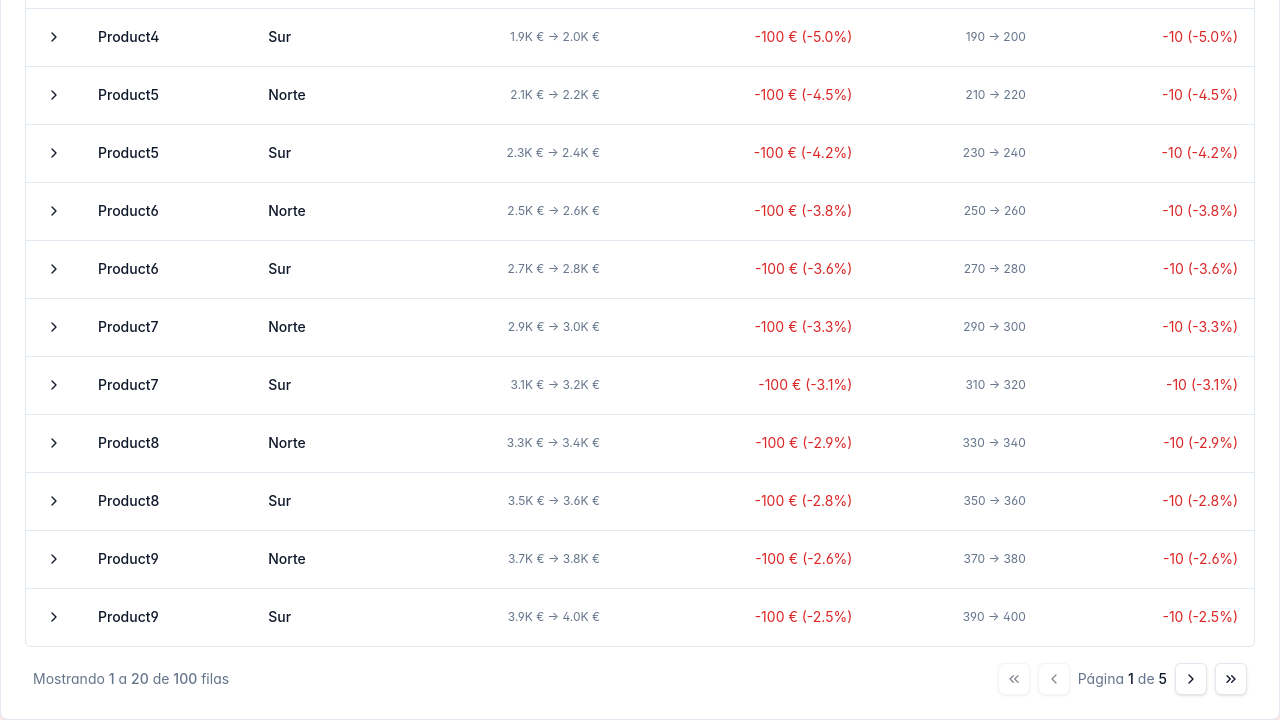
Test: GranularTable › Paginación › debe cambiar a la segunda página al hacer click en Next
The width and height of the screenshot is (1280, 720).
(page scrolled)
Check: the element showing "Mostrando 1 a 20 de 100 filas" is shown, box x1=33 y1=668 x2=229 y2=688
Click the button titled "Página siguiente" at x=1191, y=678, box x1=1175 y1=662 x2=1207 y2=694
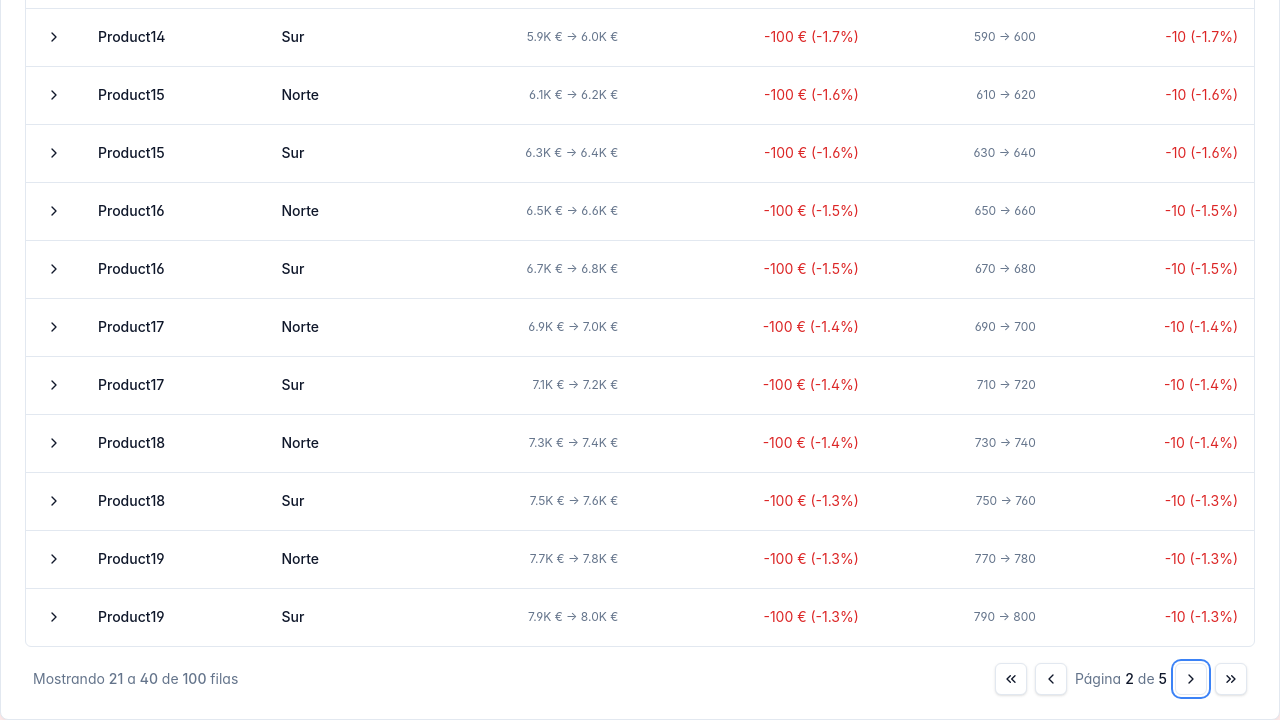
Check: the element showing "Mostrando 21 a 40 de 100 filas" is shown, box x1=33 y1=668 x2=238 y2=688
